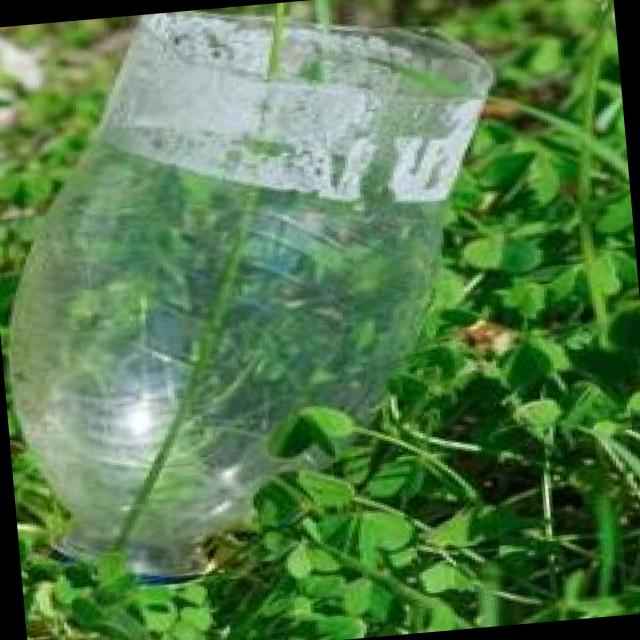general: (0, 0, 533, 592)
